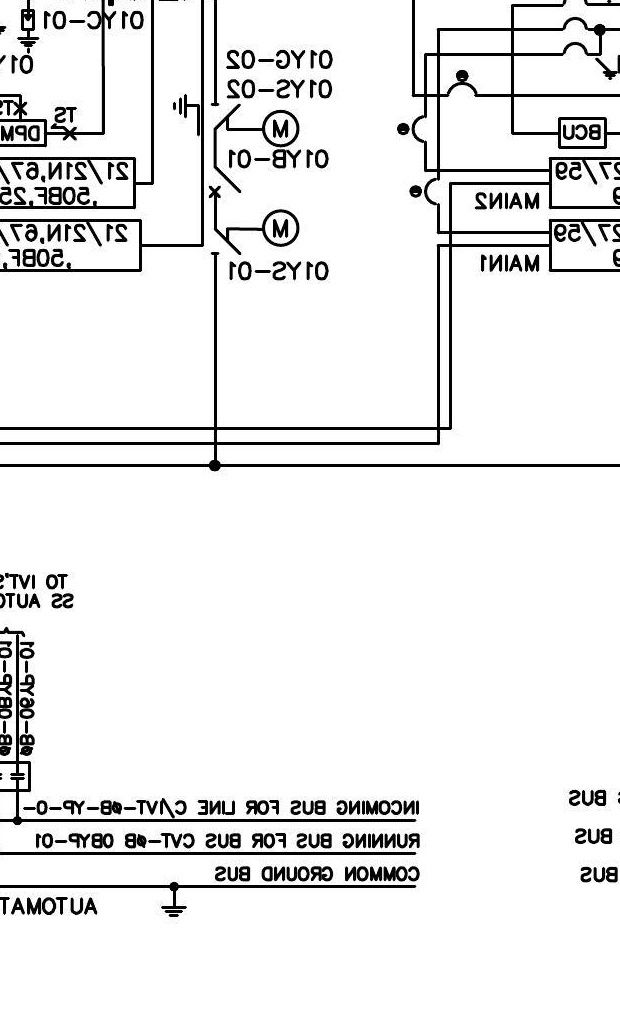115_1way_ds_w_motor: (210, 209, 300, 256)
115_3ways_ds_w_motor: (172, 93, 300, 148)
115_breaker: (208, 166, 242, 198)
115_la: (16, 9, 40, 55)
BCU: (557, 116, 608, 150)
